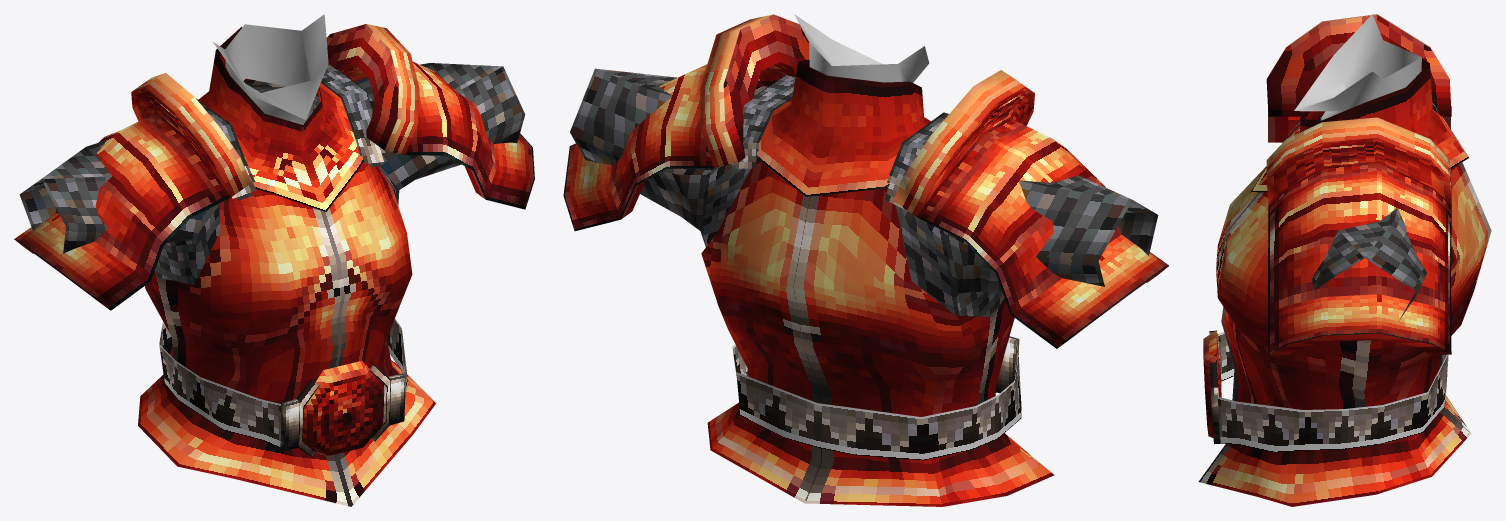
File: f_plate308.obj
The picture shows the model from 3 angles, left to right: view 1: azimuth 30°, elevation 25°; view 2: azimuth 150°, elevation 25°; view 3: azimuth 270°, elevation 25°; orthographic projection. The views are drawn at different scales.
Visible parts, largest first — view 1: mesh00, mesh02, mesh01; view 2: mesh00, mesh02, mesh01; view 3: mesh00, mesh02, mesh01.
Boxes of the visible parts, <box> form: mesh00: <box>14,24,534,506</box>; mesh02: <box>159,64,408,447</box>; mesh01: <box>213,14,328,124</box>; mesh00: <box>563,14,1168,506</box>; mesh02: <box>732,75,1021,460</box>; mesh01: <box>794,14,929,82</box>; mesh00: <box>1198,14,1491,506</box>; mesh02: <box>1217,103,1448,452</box>; mesh01: <box>1294,14,1421,120</box>.
Bounding box in the file's own units: 67.35 × 54.84 × 33.18.
